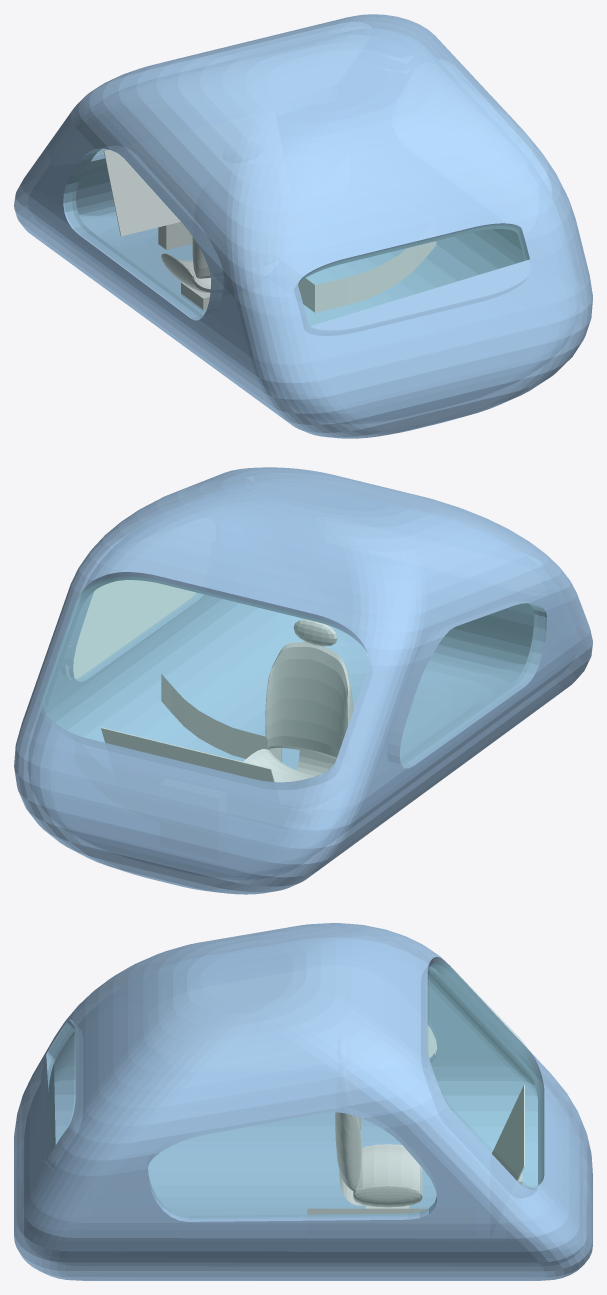
The model's file is капсула10.fbx.
3 renders of one model, top to bottom at view 1: azimuth 30°, elevation 25°; view 2: azimuth 150°, elevation 25°; view 3: azimuth 270°, elevation 25°, orthographic. The views are drawn at different scales.
Parts seen in each view (by area): view 1: Circle, Cube.004, Cube.007, Cube.003, Circle.003, Circle.001, Cube.002; view 2: Circle, Cube.006, Cube.004, Circle.002, Cube.005, Circle.003, Cube.003, Circle.001, Cube.001, Plane; view 3: Circle, Cube.005, Cube.006, Circle.001, Cube.007, Circle.002, Cube.003, Circle.004.
Part boxes in pixels (<box>): Circle: <box>14,14,592,438</box>; Cube.004: <box>65,149,210,319</box>; Cube.007: <box>298,224,528,325</box>; Cube.003: <box>103,149,180,236</box>; Circle.003: <box>315,241,436,312</box>; Circle.001: <box>161,253,210,292</box>; Cube.002: <box>158,222,192,249</box>; Circle: <box>14,467,592,894</box>; Cube.006: <box>40,576,368,781</box>; Cube.004: <box>400,603,544,767</box>; Circle.002: <box>265,642,353,759</box>; Cube.005: <box>73,580,195,678</box>; Circle.003: <box>161,674,281,762</box>; Cube.003: <box>101,727,274,781</box>; Circle.001: <box>243,749,315,782</box>; Cube.001: <box>293,619,337,646</box>; Plane: <box>297,750,336,775</box>; Circle: <box>14,923,592,1280</box>; Cube.005: <box>148,1112,436,1218</box>; Cube.006: <box>428,961,542,1188</box>; Circle.001: <box>353,1144,422,1207</box>; Cube.007: <box>47,1021,75,1150</box>; Circle.002: <box>335,1112,361,1190</box>; Cube.003: <box>492,1085,524,1181</box>; Circle.004: <box>307,1208,427,1214</box>.
Size of the model in its own units: 400 by 315 by 601.
